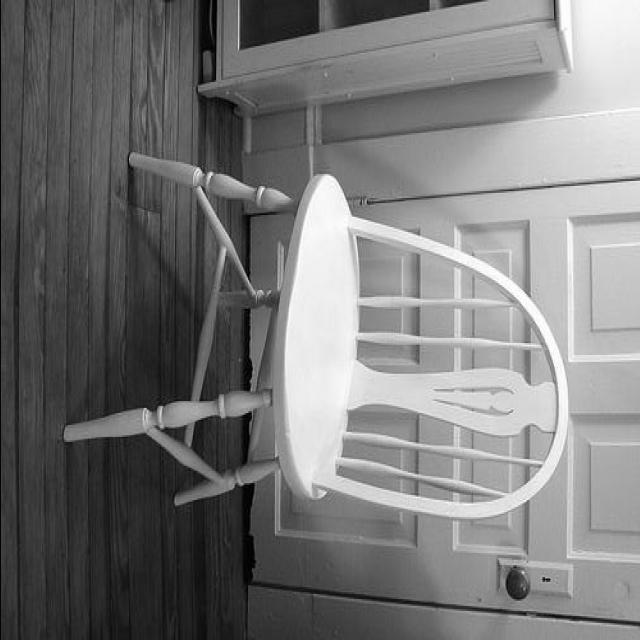chair: (60, 152, 572, 540)
